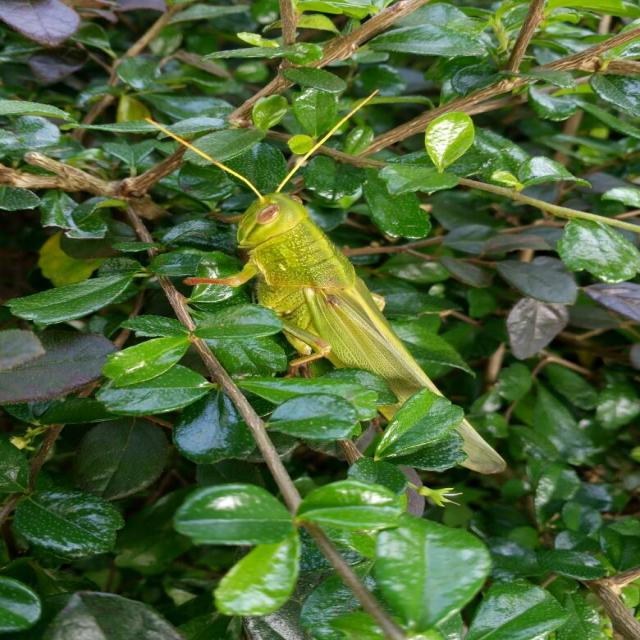ZhaMeng: (155, 104, 516, 496)
